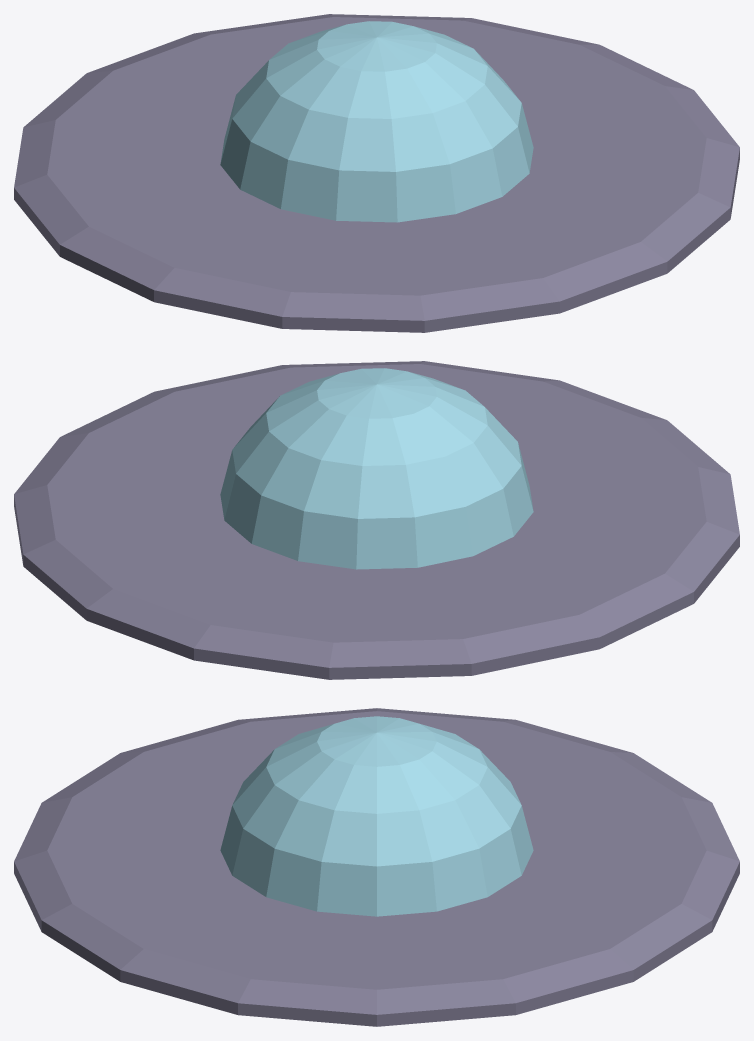
The model's file is ufo.fbx.
3 views of the same model, one above another, from view 1: azimuth 30°, elevation 25°; view 2: azimuth 150°, elevation 25°; view 3: azimuth 270°, elevation 25° (orthographic).
Parts seen in each view (by area): view 1: Sphere; view 2: Sphere; view 3: Sphere.
Boxes of the visible parts, x1,y1,x2,y2 form: Sphere: [14, 14, 739, 332]; Sphere: [14, 361, 739, 679]; Sphere: [14, 708, 739, 1026].
Bounding box in the file's own units: 558 × 126 × 558.
